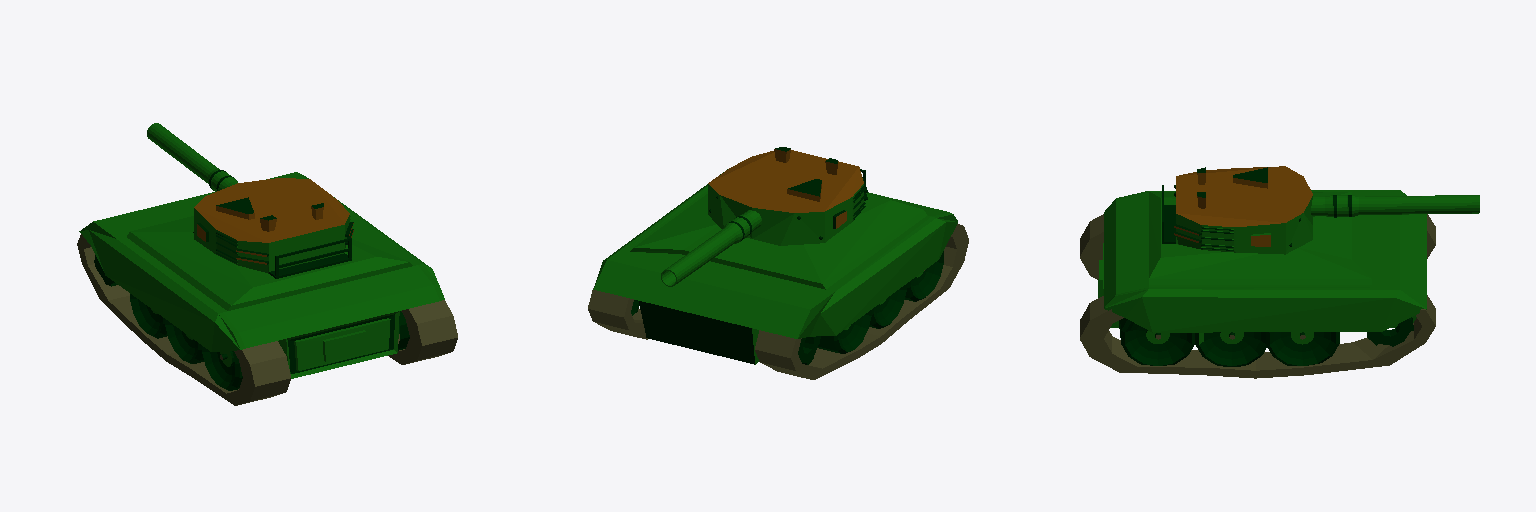
Rendered from tank.obj.
3 views of the same model, side by side, from view 1: azimuth 30°, elevation 25°; view 2: azimuth 150°, elevation 25°; view 3: azimuth 270°, elevation 25° (orthographic).
Parts seen in each view (by area): view 1: body, head; view 2: body, head; view 3: body, head.
Part boxes in pixels (x1,y1,x2,y2): body: (77, 172, 457, 405); head: (147, 123, 353, 278); body: (588, 169, 968, 379); head: (661, 147, 867, 286); body: (1080, 190, 1435, 378); head: (1162, 166, 1479, 254).
Bounding box in the file's own units: 1.09 × 0.6868 × 1.72.